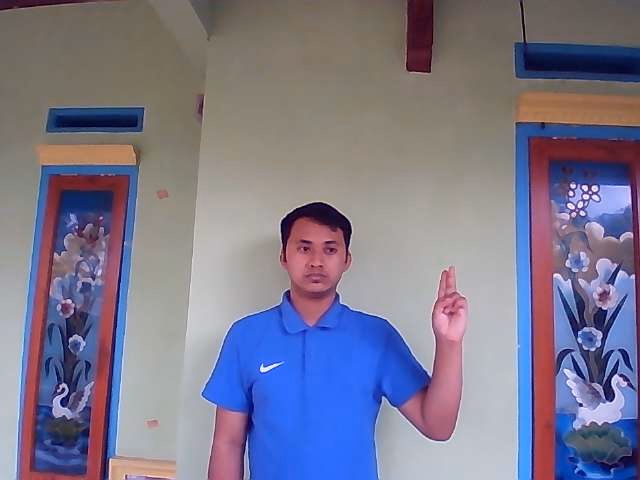U: (430, 265, 468, 342)
